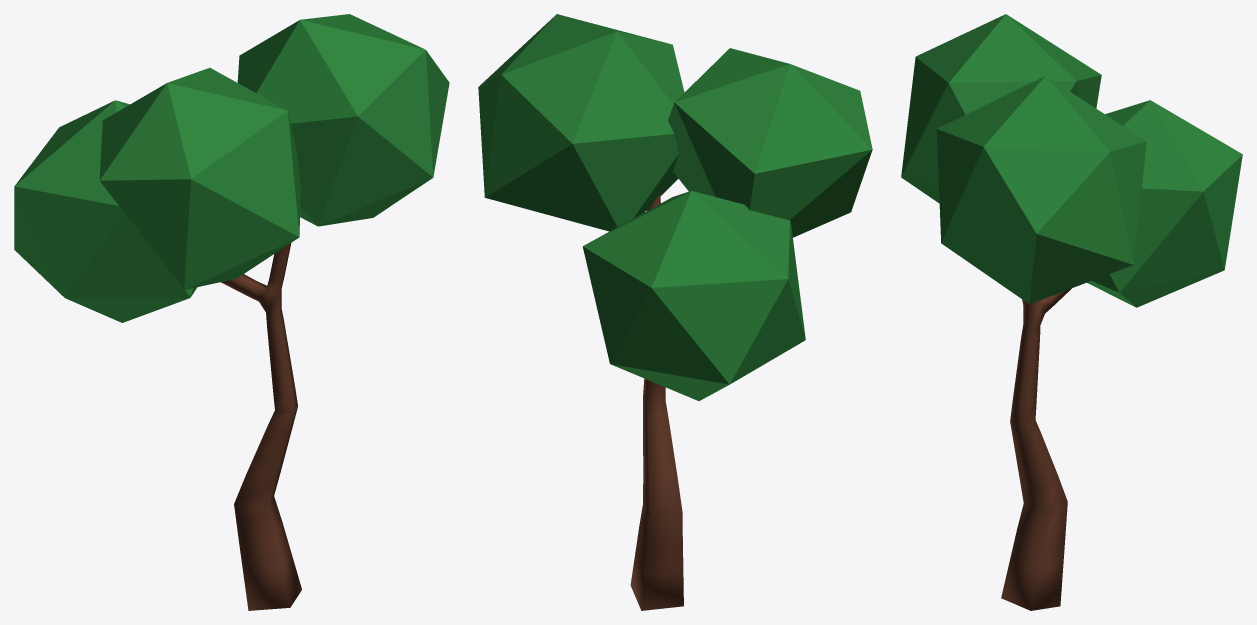
File: ArvoreCenario1.fbx
3 renders of one model, left to right at view 1: azimuth 30°, elevation 25°; view 2: azimuth 150°, elevation 25°; view 3: azimuth 270°, elevation 25°, orthographic. The views are drawn at different scales.
Parts seen in each view (by area): view 1: ArvoreCenario1; view 2: ArvoreCenario1; view 3: ArvoreCenario1.
Part boxes in pixels (box(x1,y1,x2,y2)): ArvoreCenario1: box(14, 14, 449, 610); ArvoreCenario1: box(478, 14, 872, 610); ArvoreCenario1: box(901, 14, 1242, 610).
Bounding box in the file's own units: 2180 × 3180 × 1806.
